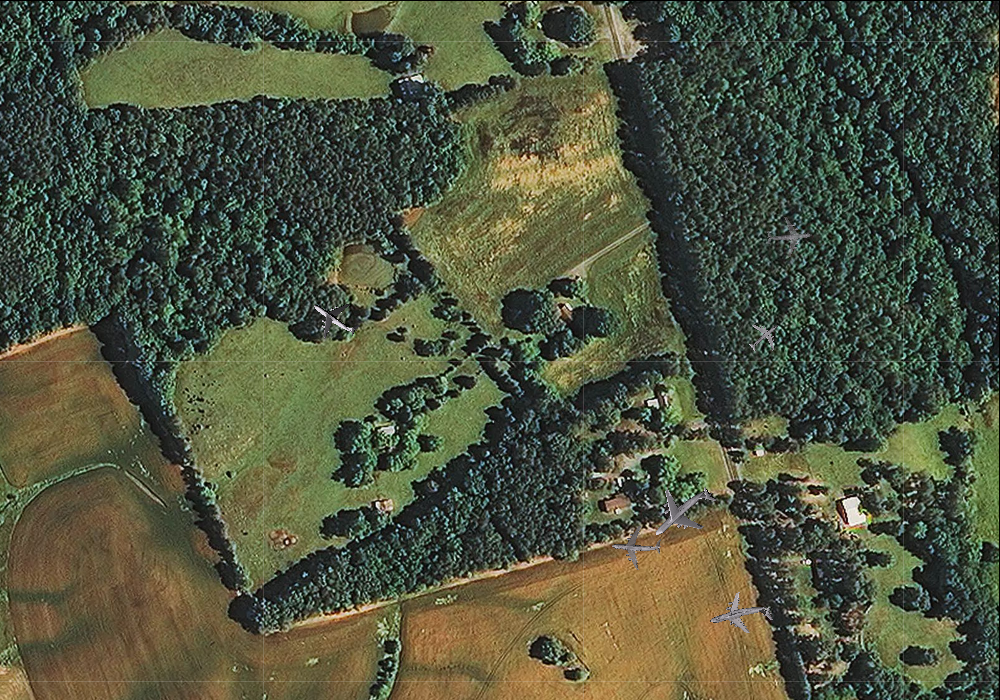plane: (637, 466, 731, 560), (704, 582, 778, 650), (301, 284, 369, 352), (609, 521, 663, 572), (740, 312, 789, 360), (765, 212, 813, 259)
